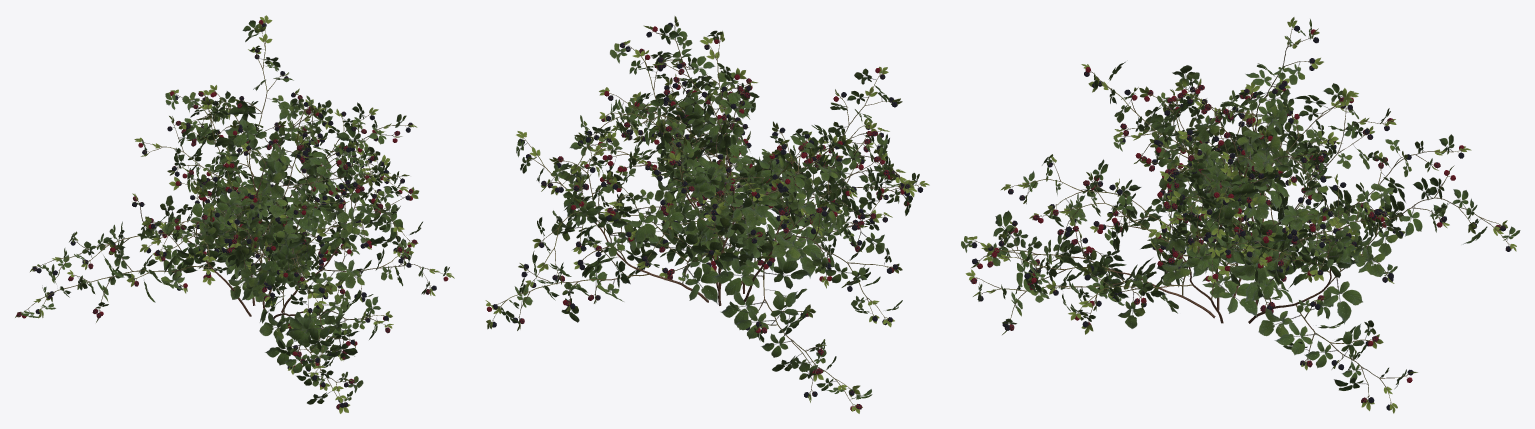
Rendered from blackberry_01.glb.
3 views of the same model, side by side, from view 1: azimuth 30°, elevation 25°; view 2: azimuth 150°, elevation 25°; view 3: azimuth 270°, elevation 25° (orthographic). The views are drawn at different scales.
Visible parts, largest first — view 1: 3DTree_Rubus fruticosus_01; view 2: 3DTree_Rubus fruticosus_01; view 3: 3DTree_Rubus fruticosus_01.
Part boxes in pixels (bbox=[...]): 3DTree_Rubus fruticosus_01: bbox=[15, 15, 454, 413]; 3DTree_Rubus fruticosus_01: bbox=[485, 16, 929, 413]; 3DTree_Rubus fruticosus_01: bbox=[961, 17, 1520, 413].
Bounding box in the file's own units: 1.21 × 0.9877 × 1.47.
Materials: 6 (3 with a texture image).
